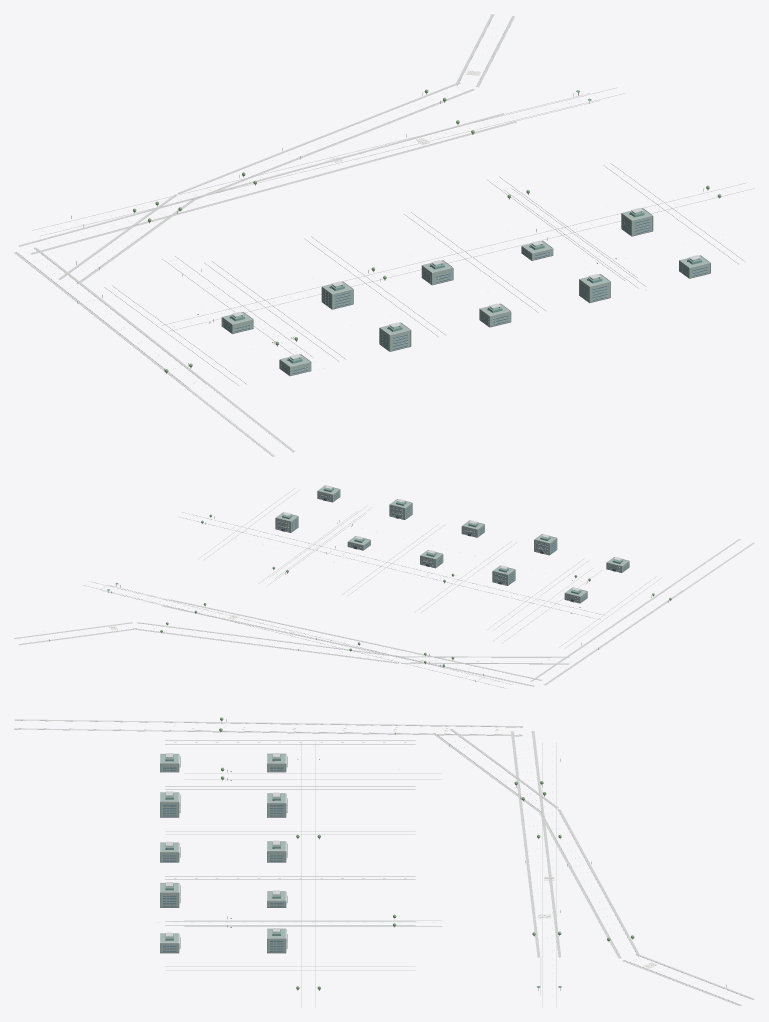
Rendered from detail-sector-sw.glb.
3 views of the same model, one above another, from view 1: azimuth 30°, elevation 25°; view 2: azimuth 150°, elevation 25°; view 3: azimuth 270°, elevation 25° (orthographic). The views are drawn at different scales.
Parts seen in each view (by area): view 1: trim_light, curb, facade_canal, glass_blue, v4_arch_sw_arch_canal; view 2: trim_light, curb, facade_canal, v4_arch_sw_arch_canal, glass_blue, v4_arch_sw_arch_light, v4_arch_sw_arch_dark; view 3: curb, trim_light, facade_canal, road_white, v4_arch_sw_arch_canal, glass_blue, v4_arch_sw_arch_light.
Boxes of the visible parts, x1,y1,x2,y2 form: trim_light: (14,14,715,456); curb: (16,14,754,387); facade_canal: (222,208,710,375); glass_blue: (223,217,707,373); v4_arch_sw_arch_canal: (221,211,710,375); trim_light: (14,485,754,686); curb: (15,488,682,688); facade_canal: (276,486,629,602); v4_arch_sw_arch_canal: (275,488,629,602); glass_blue: (278,493,628,601); v4_arch_sw_arch_light: (277,485,622,600); v4_arch_sw_arch_dark: (277,494,618,602); curb: (165,722,752,1007); trim_light: (14,719,754,1005); facade_canal: (160,754,285,952); road_white: (19,720,749,998); v4_arch_sw_arch_canal: (160,754,286,952); glass_blue: (163,767,283,951); v4_arch_sw_arch_light: (166,753,287,948).
Size of the model in its own units: 1275 by 39.89 by 1385.
